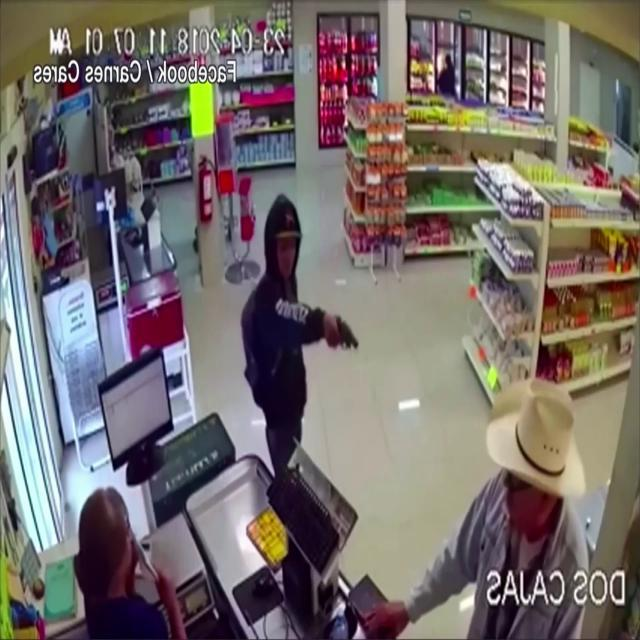Gun: (329, 314, 360, 352)
